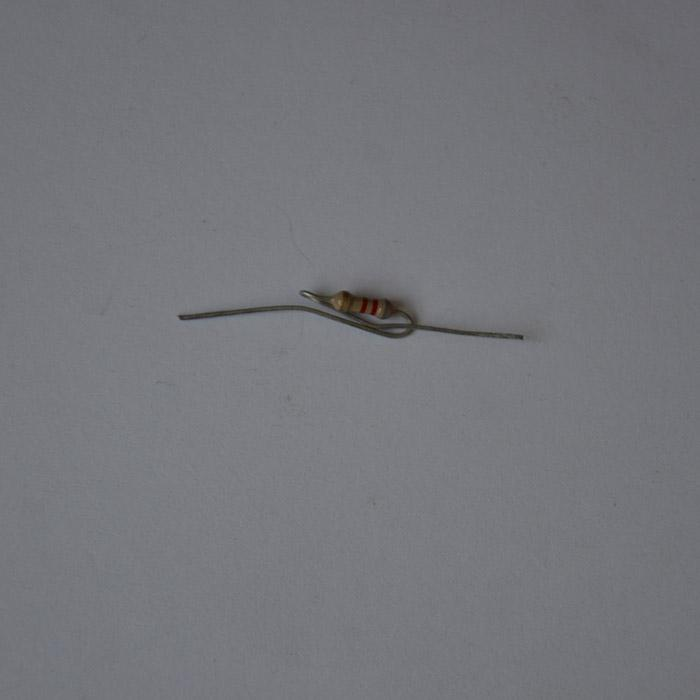resistor: (322, 288, 396, 319)
